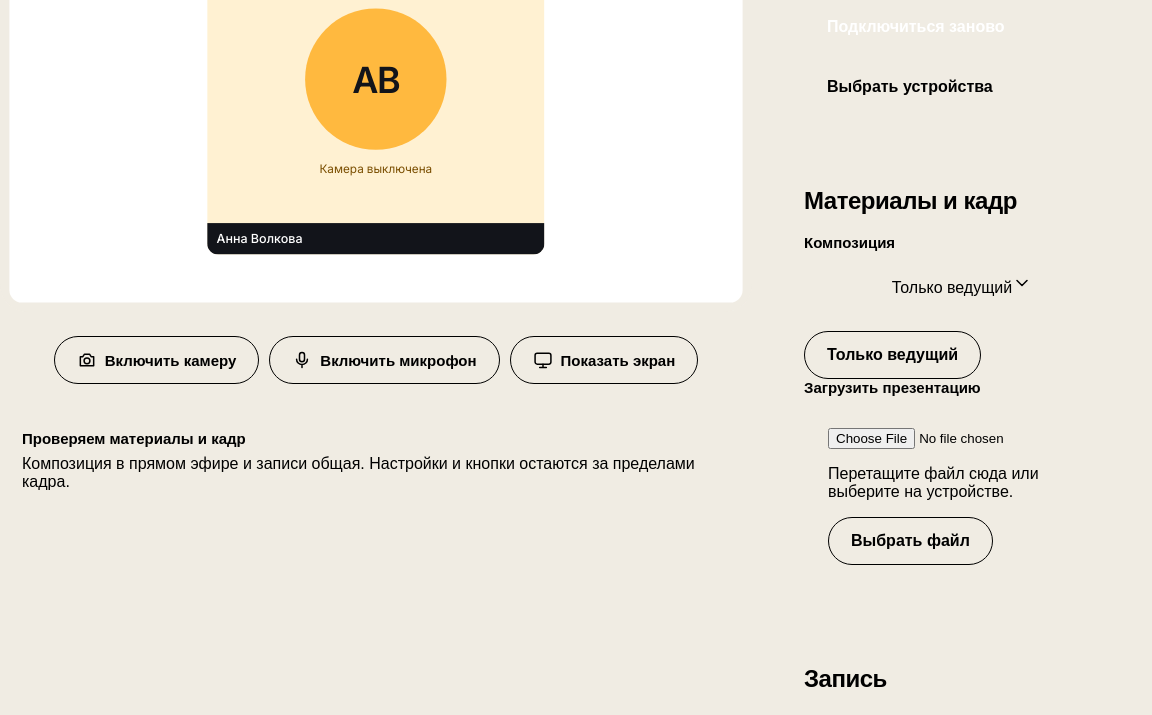
Test: requests a camera only after its explicit button and gives a usable permission retry
(page scrolled)
Step 1. Click the button "Включить камеру" → (157,360), box [54, 336, 259, 384]
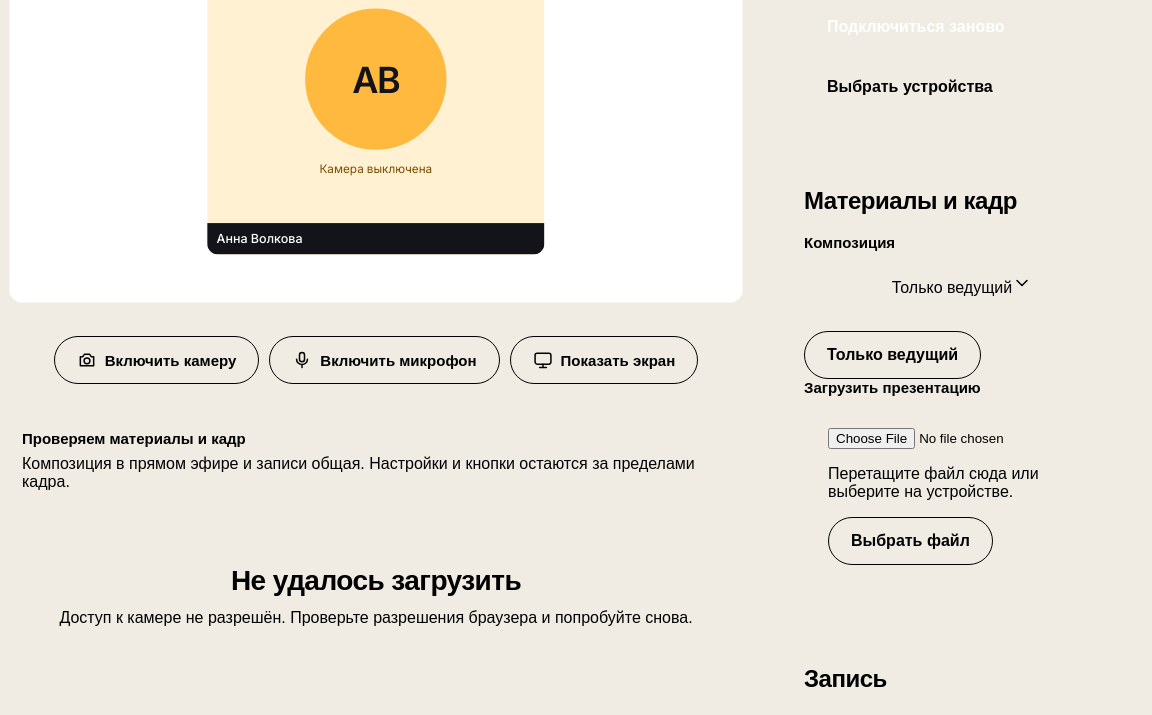
Expected: the text "Доступ к камере не разрешён" is shown, [59, 609, 693, 626]
